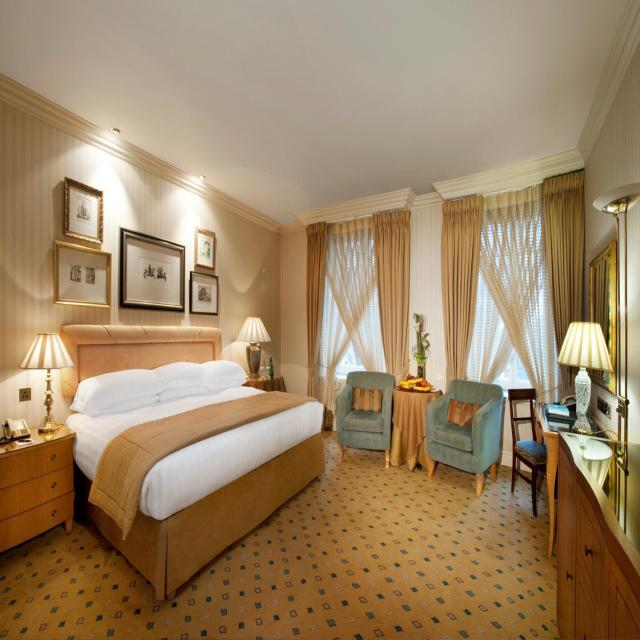other: (92, 128, 219, 210), (398, 363, 436, 399)
